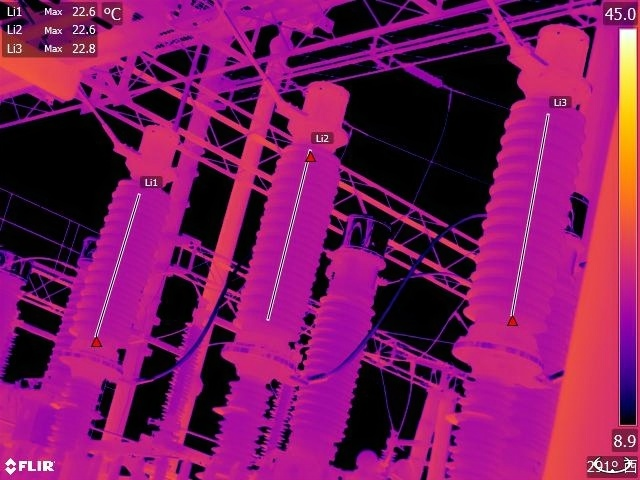circuit breaker: (427, 7, 598, 480), (202, 72, 355, 480), (42, 115, 186, 469)
current transformer: (282, 211, 400, 480), (10, 233, 99, 447), (1, 245, 39, 393)
insulator: (398, 59, 441, 87)
post insulator: (158, 325, 206, 437), (259, 379, 299, 455)
